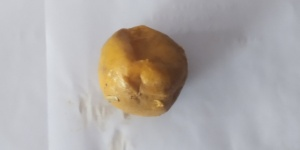BAD: (100, 25, 187, 115)
